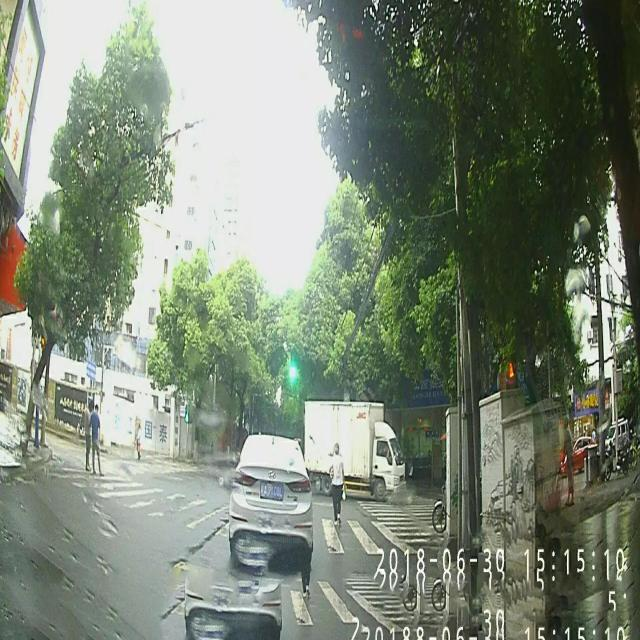car: (228, 434, 314, 566)
